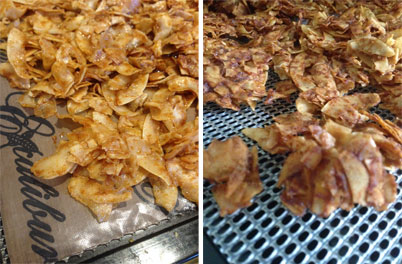bacon: (47, 22, 171, 152), (260, 84, 379, 204)
